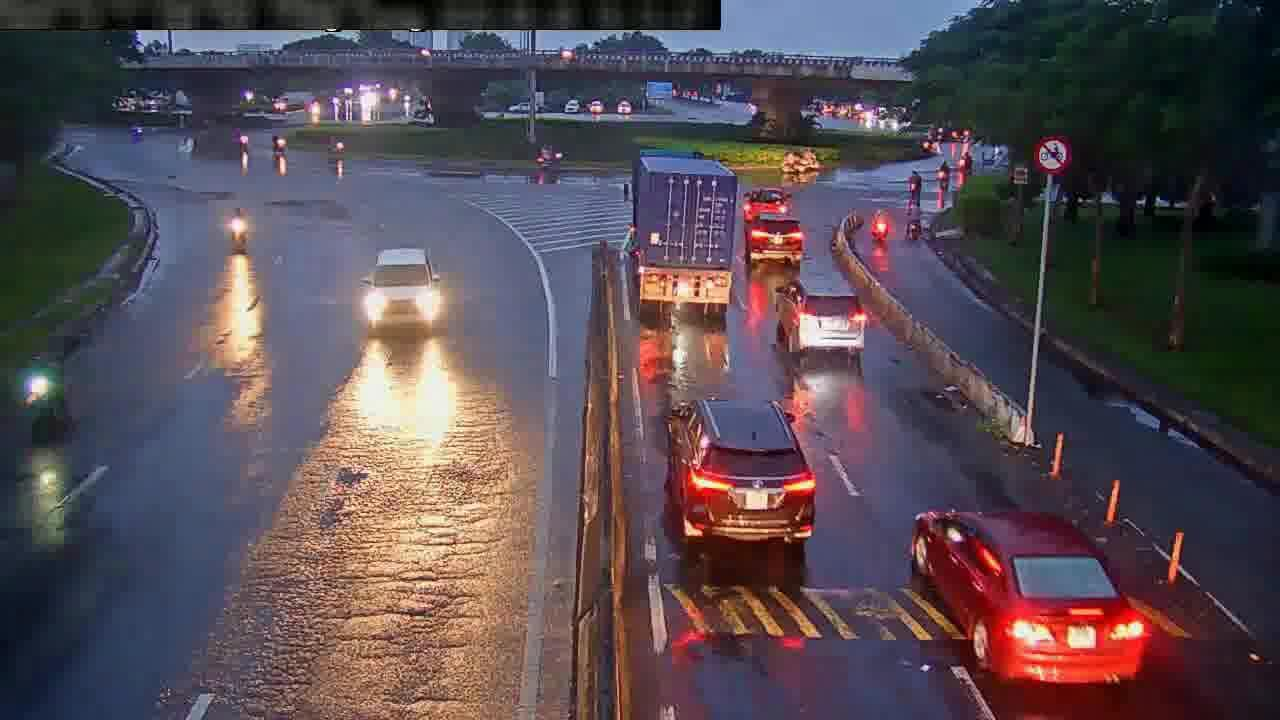8: (620, 146, 734, 325)
container: (904, 509, 1150, 688), (663, 391, 814, 555), (771, 276, 867, 362), (364, 245, 446, 338), (741, 211, 808, 272)
motorbike: (25, 351, 75, 438), (228, 205, 250, 249), (869, 199, 889, 243)
